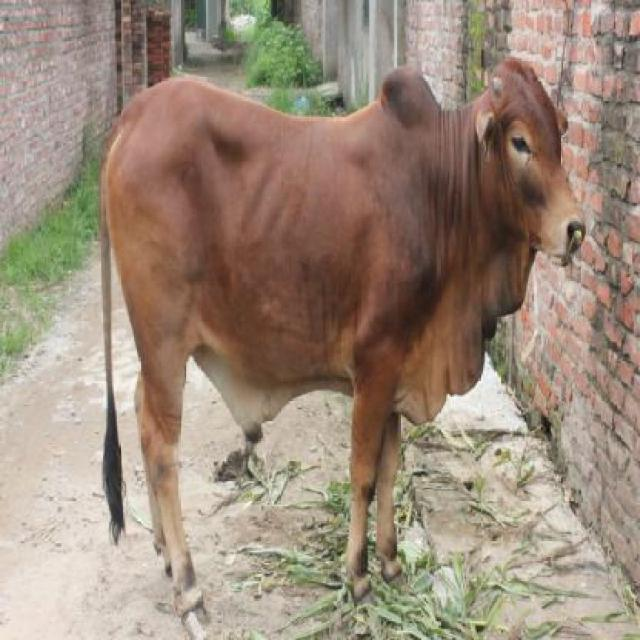Cow: (97, 46, 589, 614)
